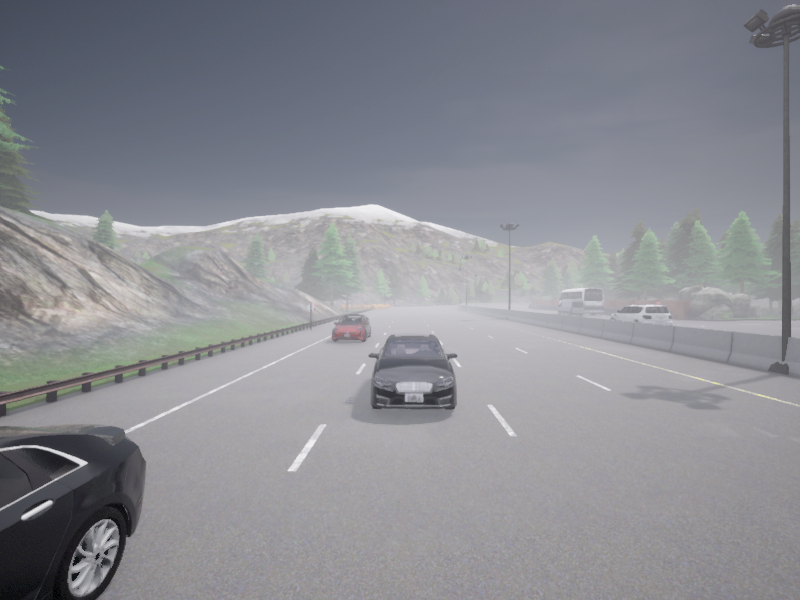vehicle: (0, 424, 146, 599), (369, 333, 456, 409), (609, 305, 672, 324), (557, 288, 603, 314), (332, 314, 370, 341), (557, 299, 583, 315)
